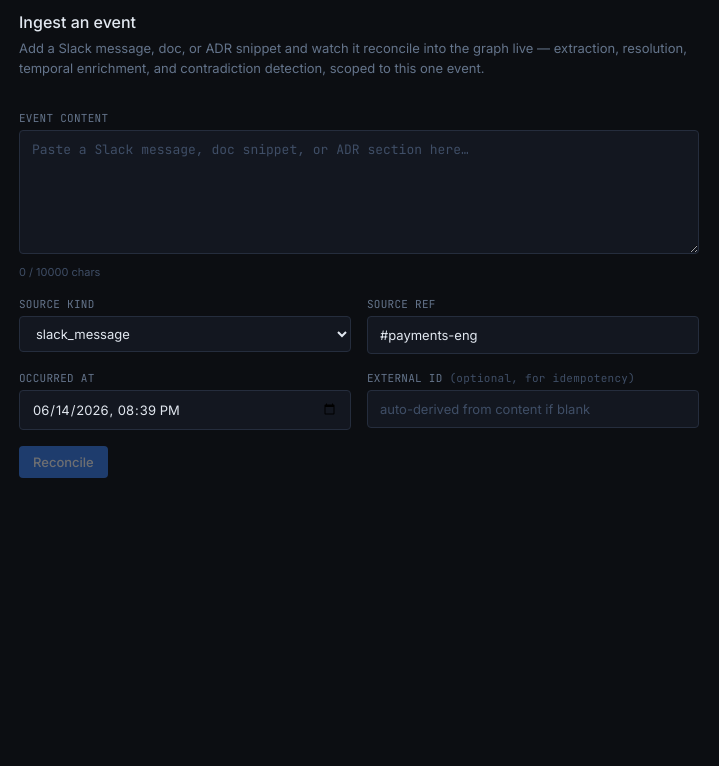
it: Ingest page › submits and renders the reconciliation result
Type "welcome aboard Nadia Okafor, joining as a Software Engineer" into the text box labelled "Event content" at (359, 192), box [19,130,699,254]
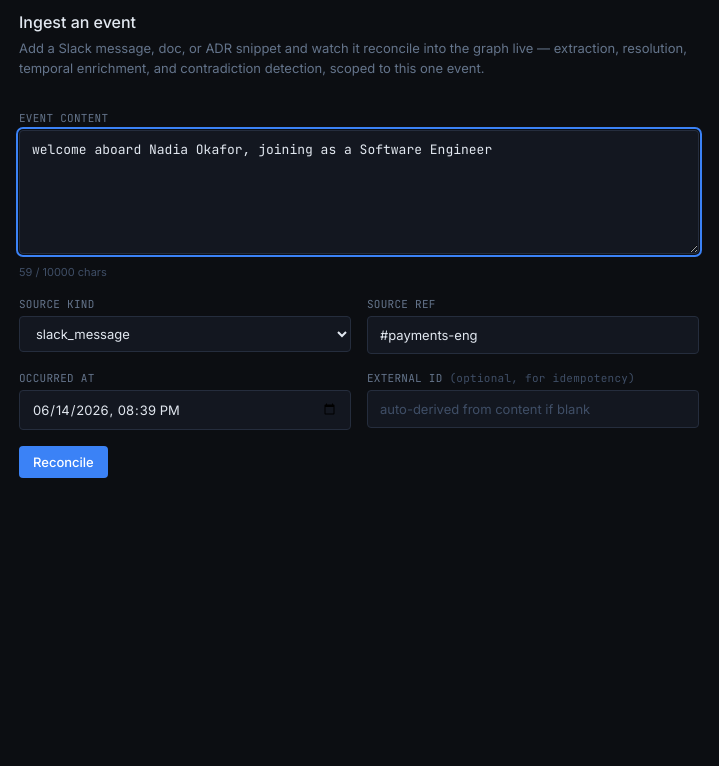
Click the button "Reconcile" at (63, 462), box [19,446,108,478]
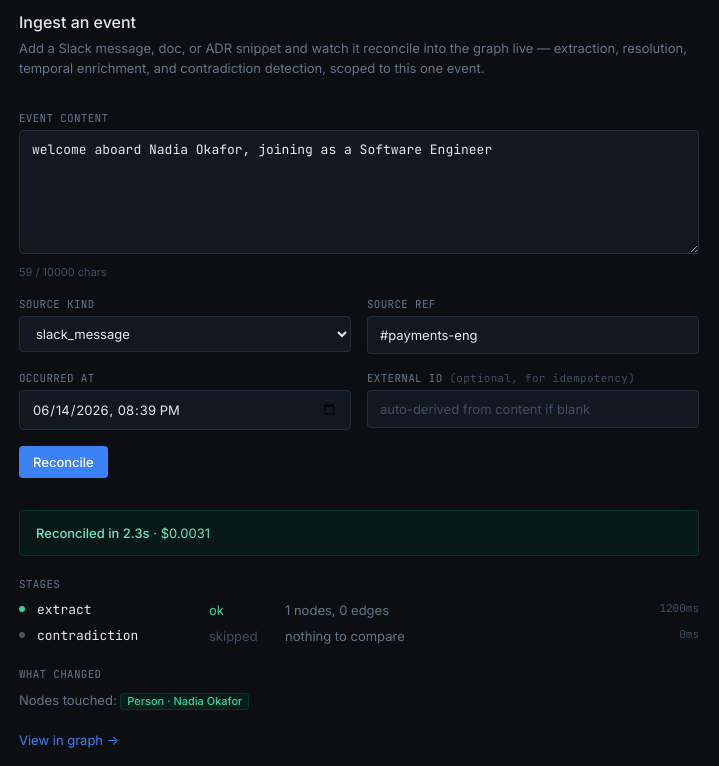
Expected: the text "Reconciled in 2.3s" is shown, [36,525,150,541]
Expected: the text "Person · Nadia Okafor" is shown, [120,693,249,710]
Expected: the link "View in graph →" is shown, [19,730,119,750]
